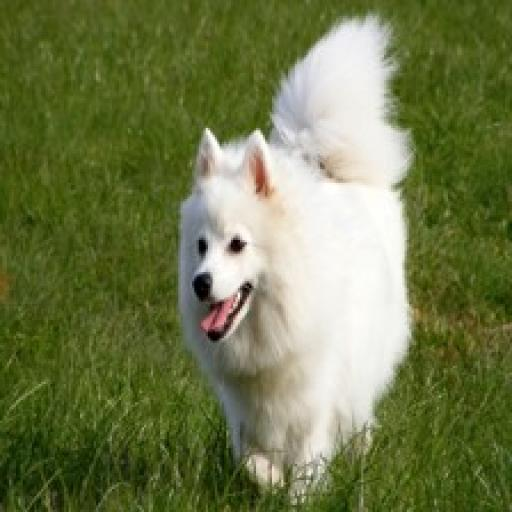dog: (166, 7, 422, 504)
